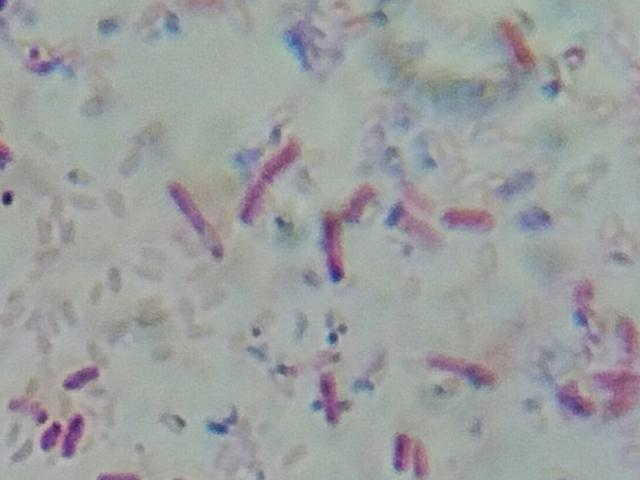E. coli: (236, 139, 302, 224), (166, 176, 219, 258), (425, 343, 503, 395), (493, 10, 535, 72), (318, 369, 352, 435), (61, 359, 104, 406), (439, 205, 502, 235), (322, 212, 347, 280), (555, 379, 588, 422), (349, 176, 377, 224), (65, 405, 87, 456), (411, 439, 438, 480), (593, 367, 640, 390), (386, 427, 408, 475), (606, 387, 631, 425), (8, 399, 38, 425), (41, 417, 62, 453), (619, 313, 634, 361), (99, 467, 153, 480)
